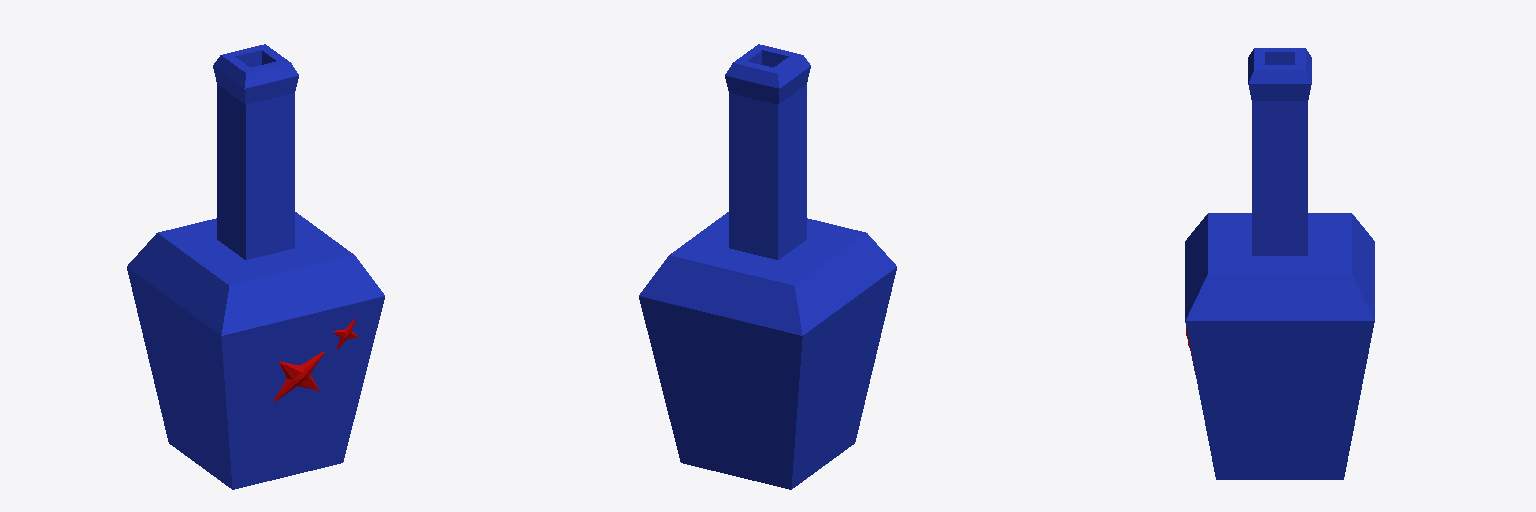
The model's file is bottle.obj.
The picture shows the model from 3 angles: view 1: azimuth 30°, elevation 25°; view 2: azimuth 150°, elevation 25°; view 3: azimuth 270°, elevation 25°; orthographic projection.
Parts seen in each view (by area): view 1: Cube_Cube.001, Cube.001_Cube.002; view 2: Cube_Cube.001; view 3: Cube_Cube.001.
Boxes of the visible parts, <box> form: Cube_Cube.001: <box>127,44,384,489</box>; Cube.001_Cube.002: <box>274,351,324,401</box>; Cube_Cube.001: <box>639,44,896,489</box>; Cube_Cube.001: <box>1185,48,1374,479</box>.
Bounding box in the file's own units: 2 × 4.59 × 2.